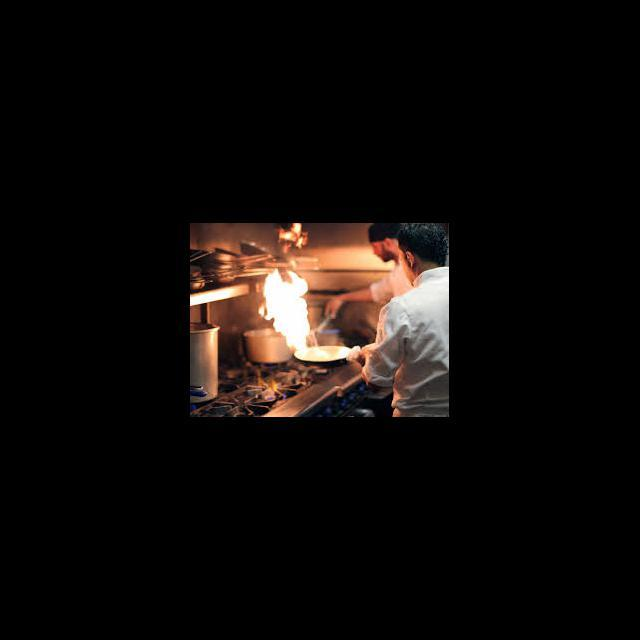Fire: (254, 268, 326, 358), (278, 223, 312, 251)
